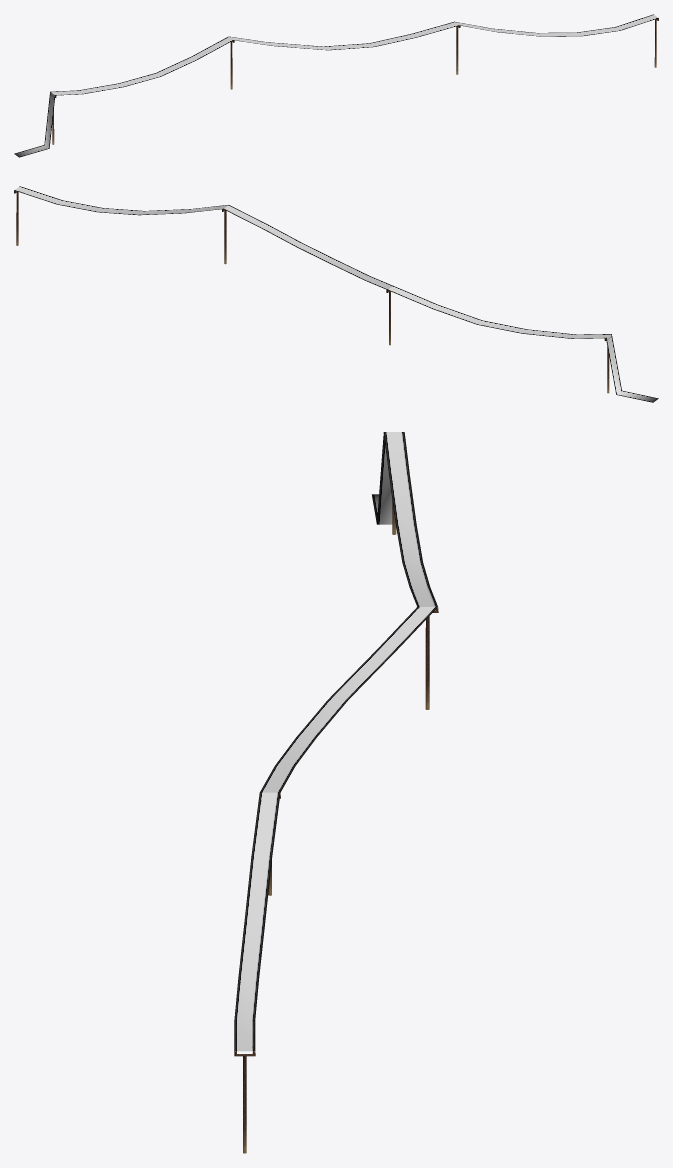
The model's file is M5_Telewires01.glb.
The picture shows the model from 3 angles, top to bottom: view 1: azimuth 30°, elevation 25°; view 2: azimuth 150°, elevation 25°; view 3: azimuth 270°, elevation 25°; orthographic projection. The views are drawn at different scales.
Visible parts, largest first — view 1: M5_TELEWIRES01; view 2: M5_TELEWIRES01; view 3: M5_TELEWIRES01.
Part boxes in pixels (x1,y1,x2,y2): M5_TELEWIRES01: [14, 14, 658, 157]; M5_TELEWIRES01: [14, 186, 658, 402]; M5_TELEWIRES01: [234, 432, 438, 1153].
Size of the model in its own units: 64.99 by 9.01 by 9.48.
Materials: 2 (2 with a texture image).
